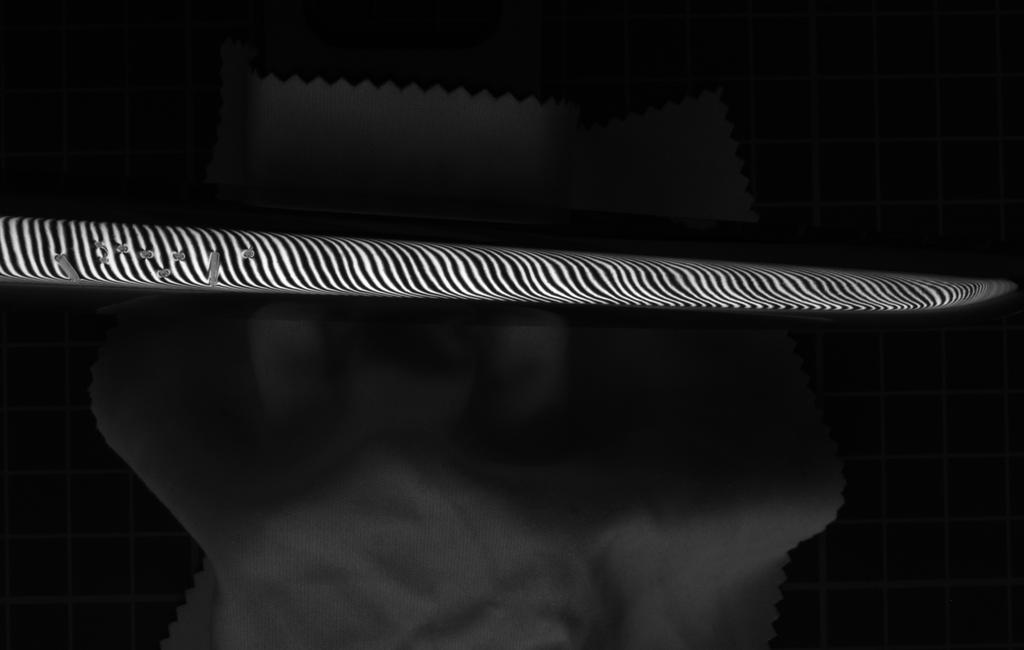Pierced: (110, 239, 135, 260), (167, 246, 195, 264), (237, 242, 262, 262), (134, 245, 159, 264), (155, 264, 175, 281)
Scratch: (49, 246, 91, 289), (205, 244, 225, 289), (90, 235, 113, 271)
